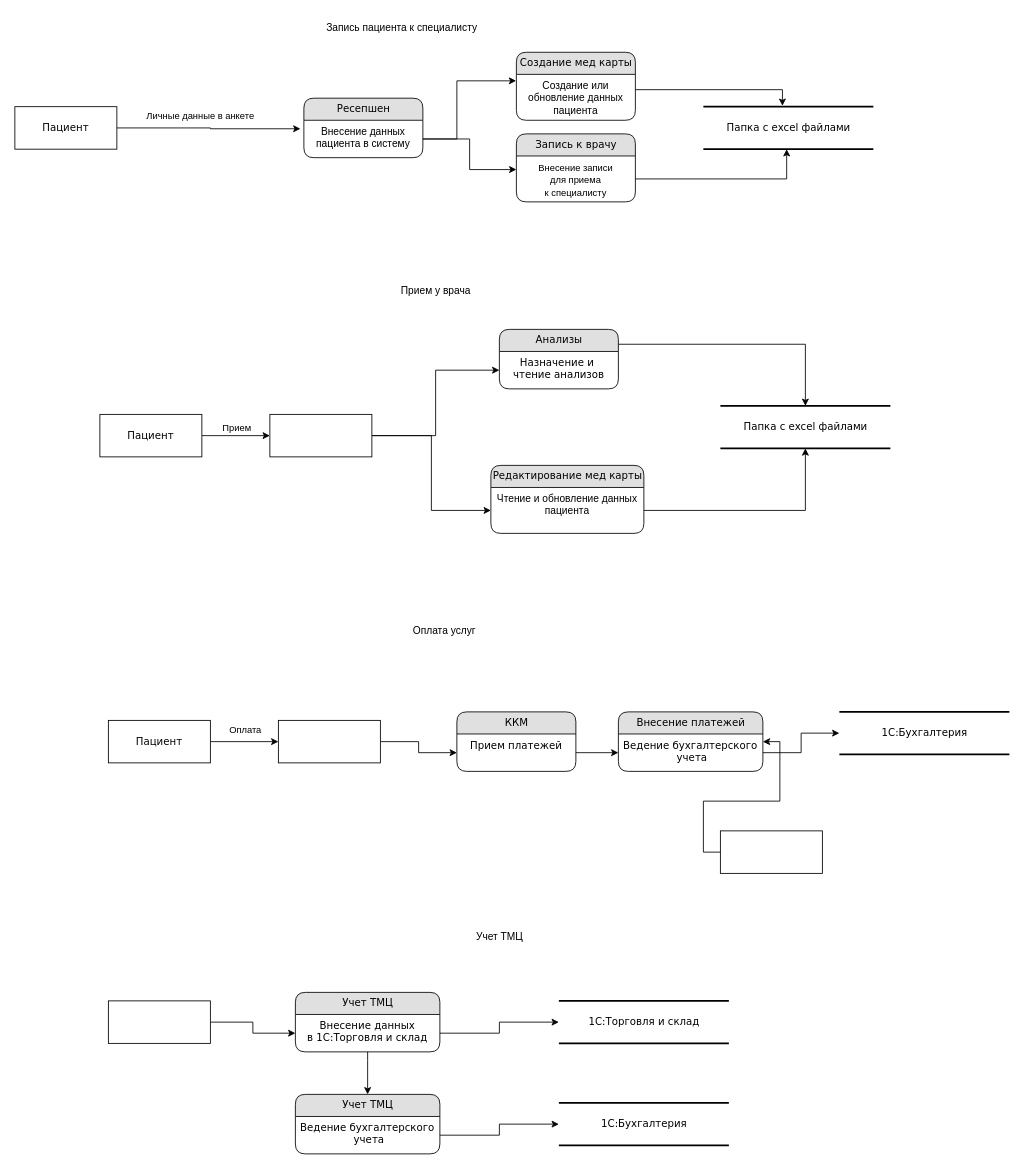
Some shapes in this 1025 by 1170 pixel diagram are drawn without their labels. The shapes that lost their labels are listed below. From the top down, each one's centre as x and y in pixels, then its label:
At [320,435]: "Врач".
At [329,741]: "Кассир".
At [771,851]: "Бухгалтер".
At [159,1021]: "Сотрудник склада".
